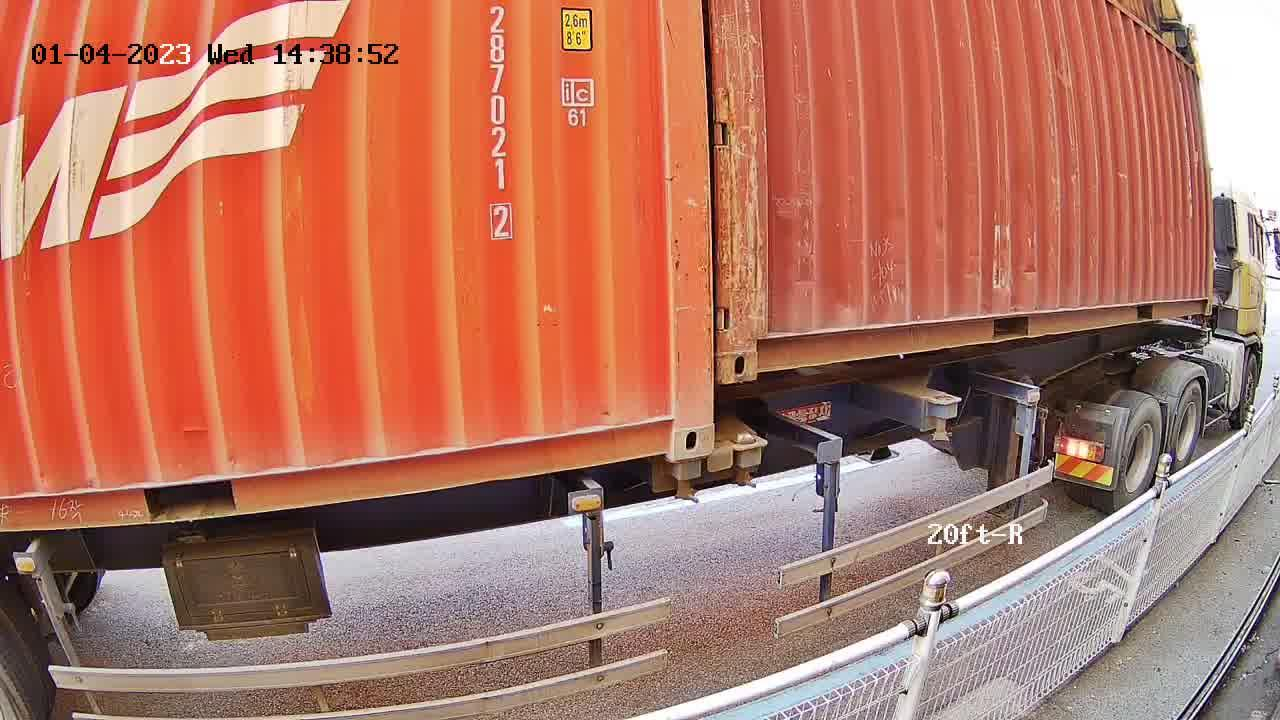Cone: (666, 456, 708, 509), (727, 432, 762, 489)
Hole_L: (720, 299, 789, 384)
Hole_R: (632, 382, 713, 458)
Tire: (1115, 401, 1162, 512), (1168, 383, 1205, 479)
